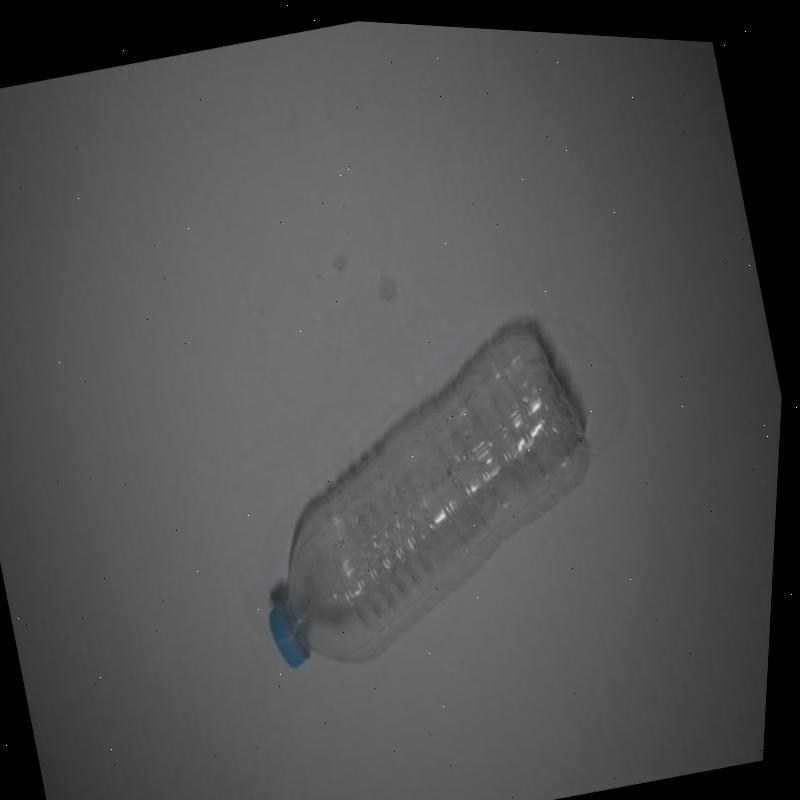botella: (210, 289, 641, 693)
